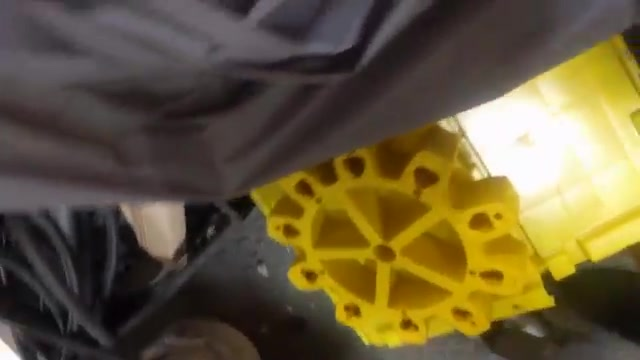gear: (232, 147, 547, 343)
